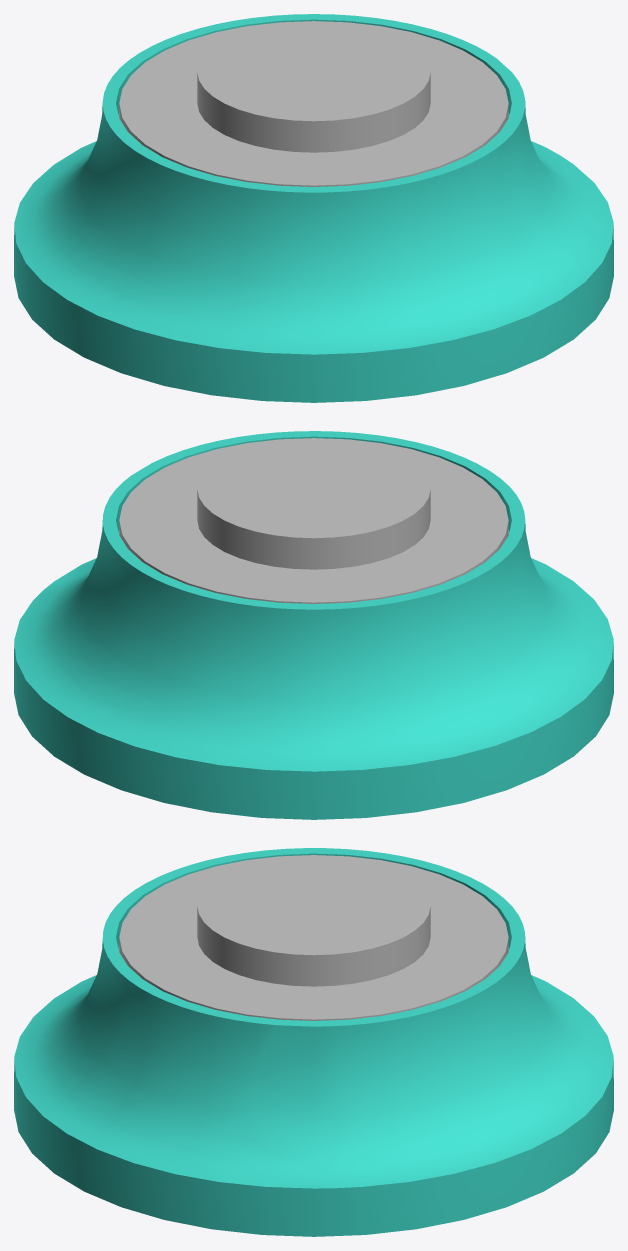
The picture shows the model from 3 angles, top to bottom: view 1: azimuth 30°, elevation 25°; view 2: azimuth 150°, elevation 25°; view 3: azimuth 270°, elevation 25°; orthographic projection.
Visible parts, largest first — view 1: base_link; view 2: base_link; view 3: base_link.
Part boxes in pixels (x1,y1,x2,y2): base_link: (14, 14, 613, 402); base_link: (14, 431, 613, 819); base_link: (14, 848, 613, 1236).
Size of the model in its own units: 0.09 by 0.09 by 0.0338.
